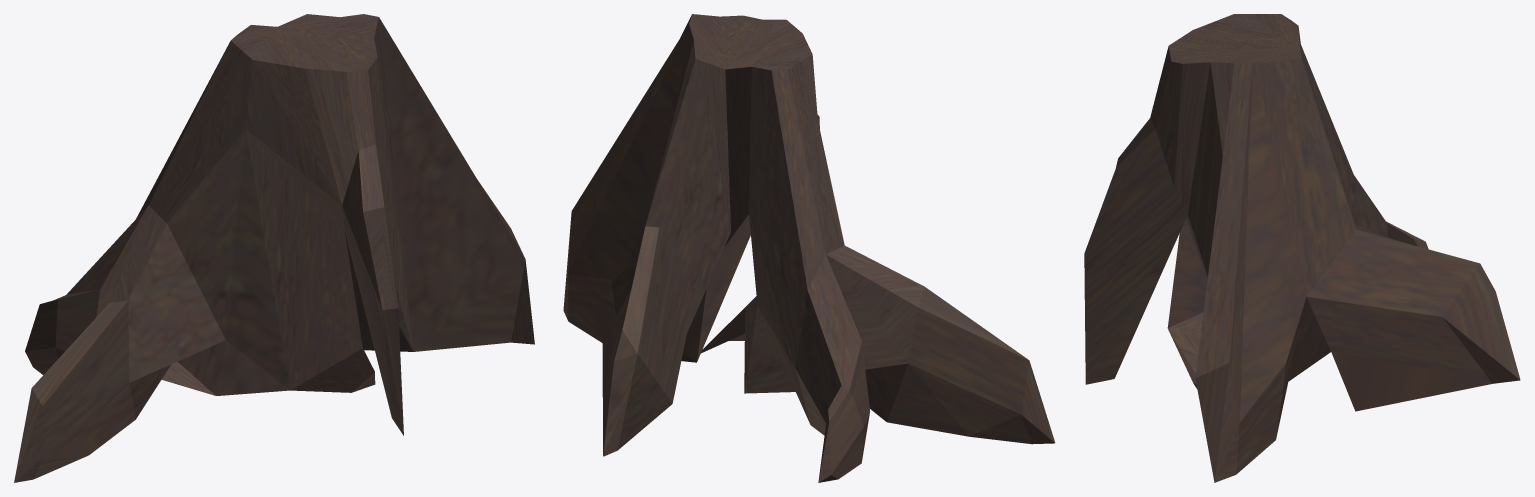
The model's file is buttressRootTreeCollider.fbx.
3 views of the same model, side by side, from view 1: azimuth 30°, elevation 25°; view 2: azimuth 150°, elevation 25°; view 3: azimuth 270°, elevation 25° (orthographic). The views are drawn at different scales.
Visible parts, largest first — view 1: buttressRootTreeCollider; view 2: buttressRootTreeCollider; view 3: buttressRootTreeCollider.
Part boxes in pixels (x1,y1,x2,y2): buttressRootTreeCollider: (14,14,534,482); buttressRootTreeCollider: (563,14,1055,482); buttressRootTreeCollider: (1084,14,1520,482).
Bounding box in the file's own units: 1097 × 750 × 811.
